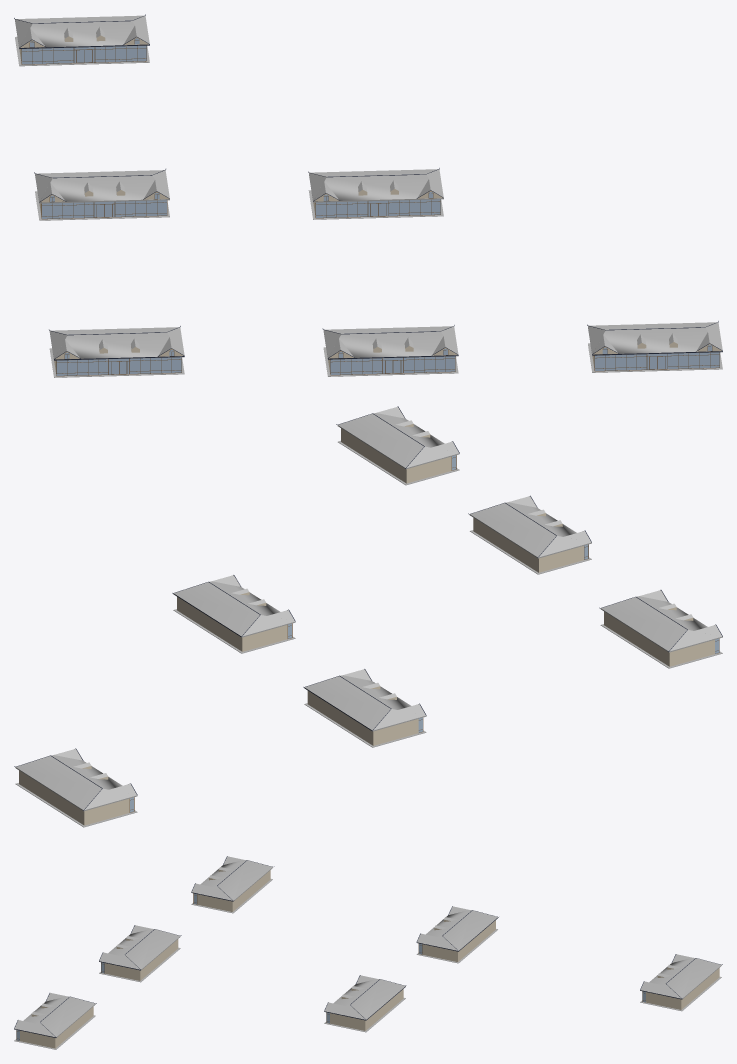
Rendered from changfang2.gltf.
3 views of the same model, one above another, from view 1: azimuth 30°, elevation 25°; view 2: azimuth 150°, elevation 25°; view 3: azimuth 270°, elevation 25° (orthographic). The views are drawn at different scales.
Parts seen in each view (by area): view 1: dx44; view 2: dx44; view 3: dx44.
Part boxes in pixels (<box>): dx44: <box>14,14,722,377</box>; dx44: <box>14,406,722,827</box>; dx44: <box>14,856,722,1049</box>.
Size of the model in its own units: 712 by 35.37 by 1187.
